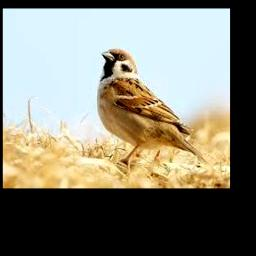Sparrow: (98, 49, 208, 165)
